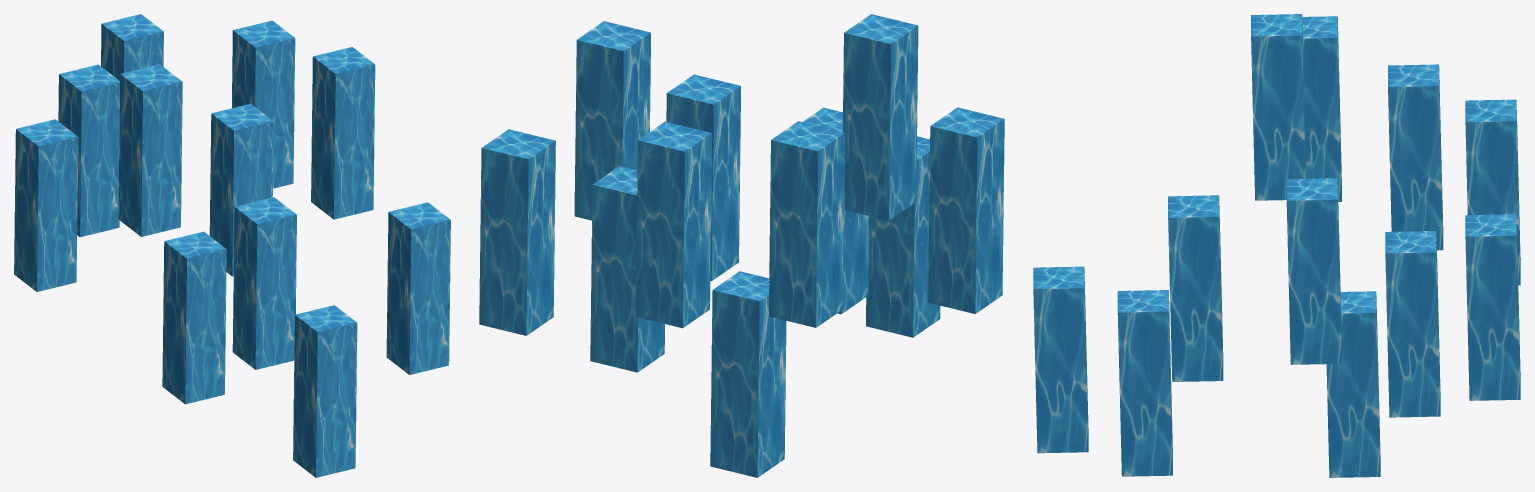
The model's file is agua.obj.
3 renders of one model, left to right at view 1: azimuth 30°, elevation 25°; view 2: azimuth 150°, elevation 25°; view 3: azimuth 270°, elevation 25°, orthographic. The views are drawn at different scales.
Parts seen in each view (by area): view 1: pCube13; view 2: pCube13; view 3: pCube13.
Boxes of the visible parts, x1=… form: pCube13: x1=14, y1=14, x2=450, y2=477; pCube13: x1=479, y1=14, x2=1004, y2=477; pCube13: x1=1033, y1=14, x2=1520, y2=477.
Size of the model in its own units: 0.7124 by 0.7247 by 0.7995.
Materials: 1 (1 with a texture image).
